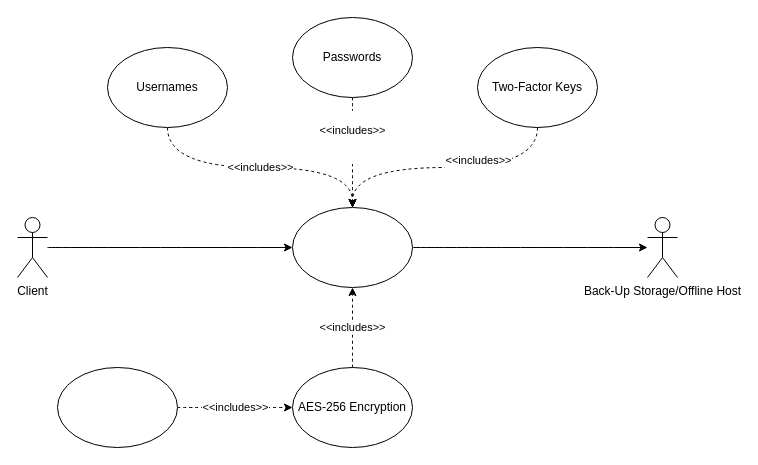
This 758x465 diagram has some shape labels left out. Here are the shapes that lost their labels. From the top down, the centre of each, then its label:
the point at 352,247: Exporting Vault
the point at 117,407: Account Master Key
